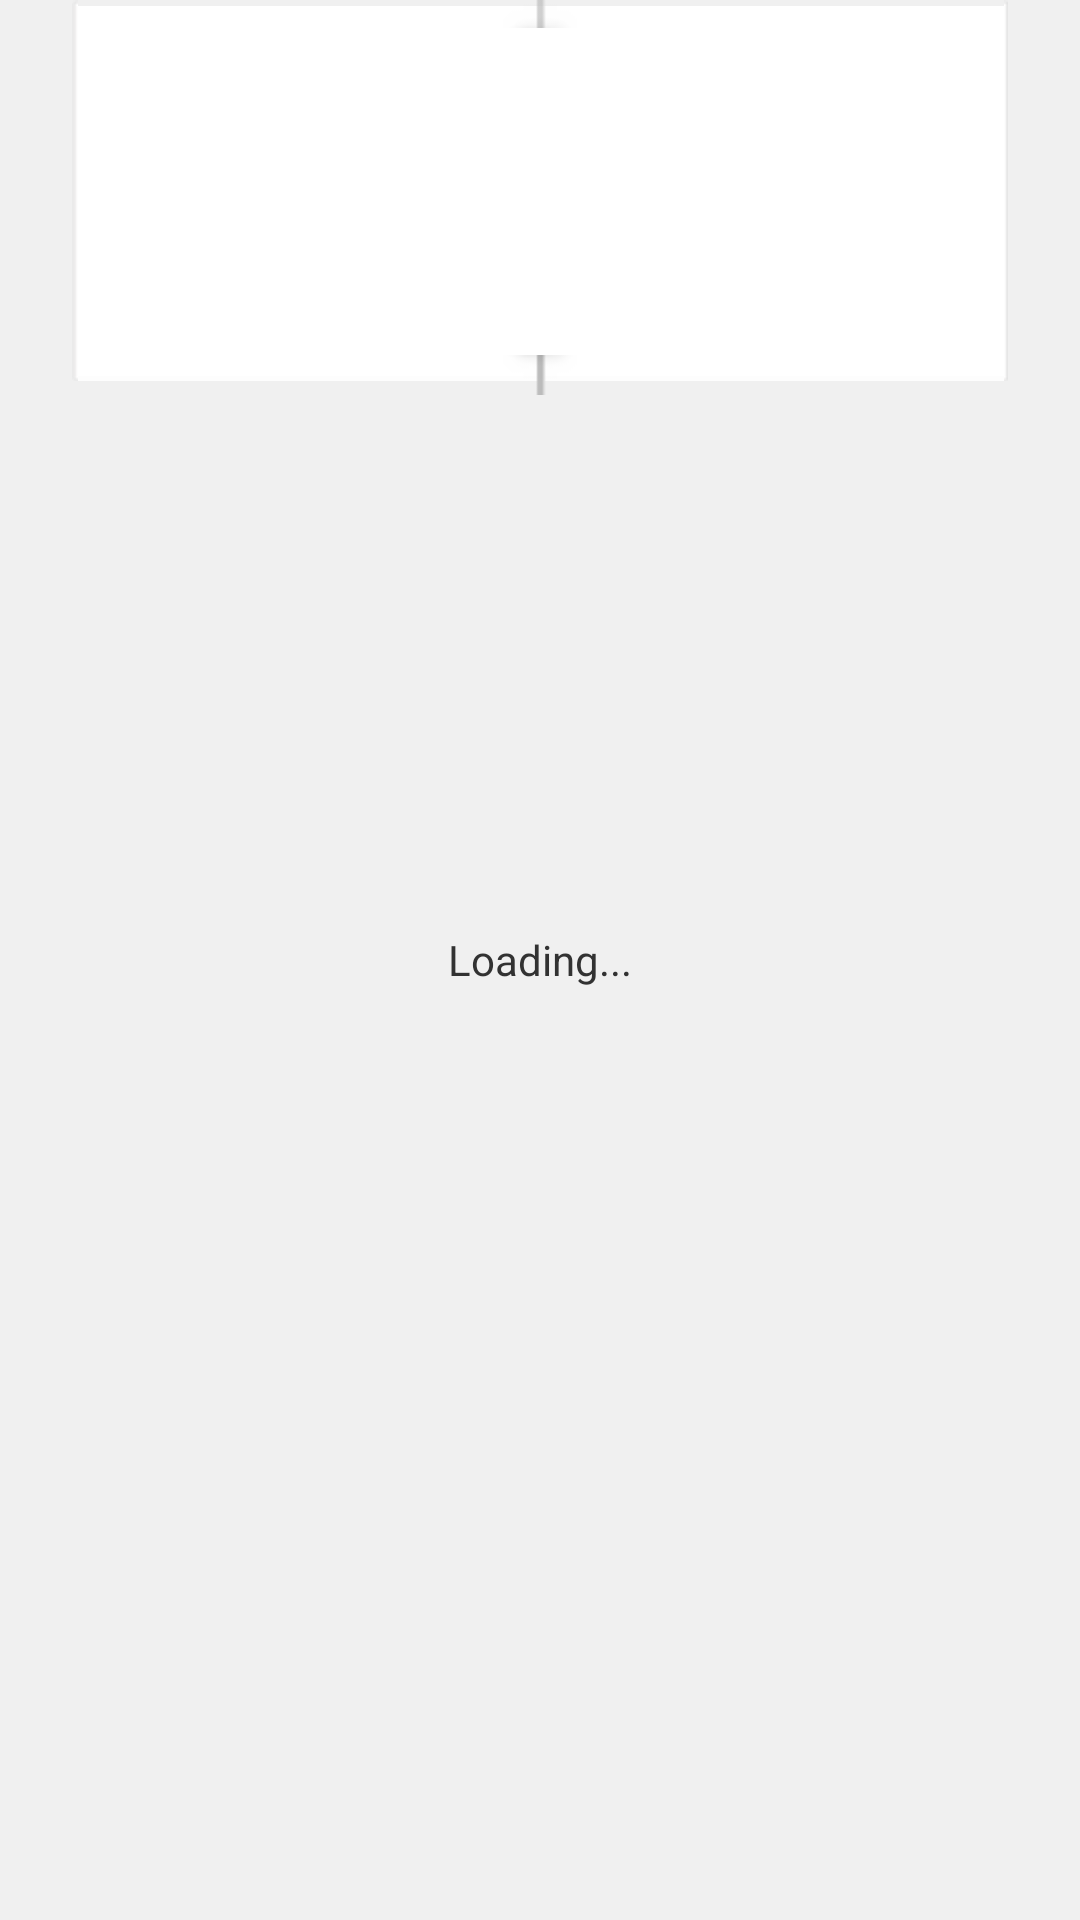

Icon bounding boxes for this 1080×1920 phone screenshot, format (x1,y1,x2,y2):
rope bottom: (537,355,545,395)
rope top: (536,0,545,28)
